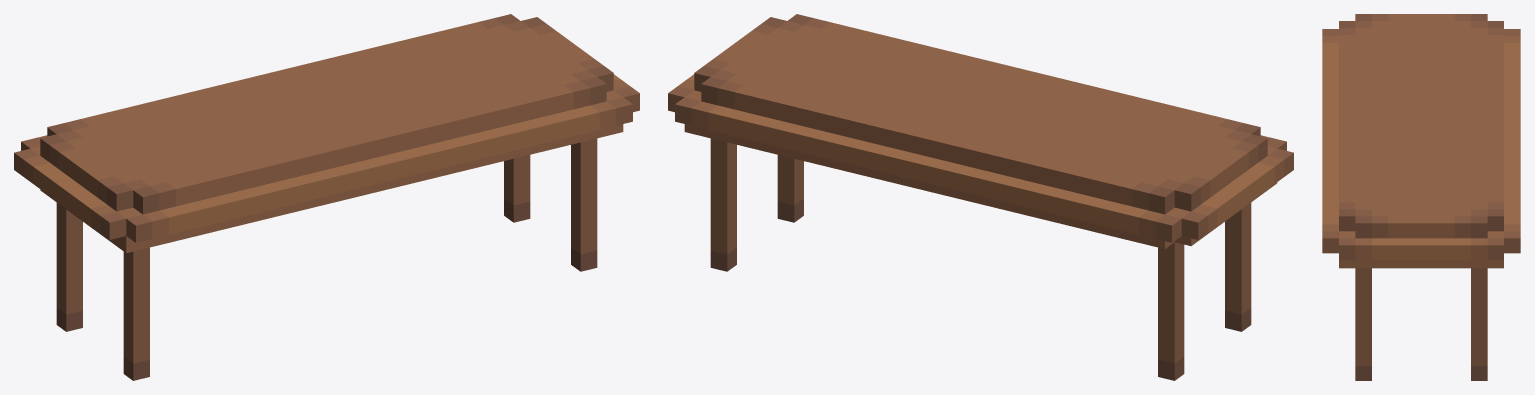
The model's file is Interior_Furniture-24.obj.
The picture shows the model from 3 angles, left to right: view 1: azimuth 30°, elevation 25°; view 2: azimuth 150°, elevation 25°; view 3: azimuth 270°, elevation 25°; orthographic projection. The views are drawn at different scales.
Size of the model in its own units: 3.2 by 1.1 by 1.2.
1 material, 1 textured.
